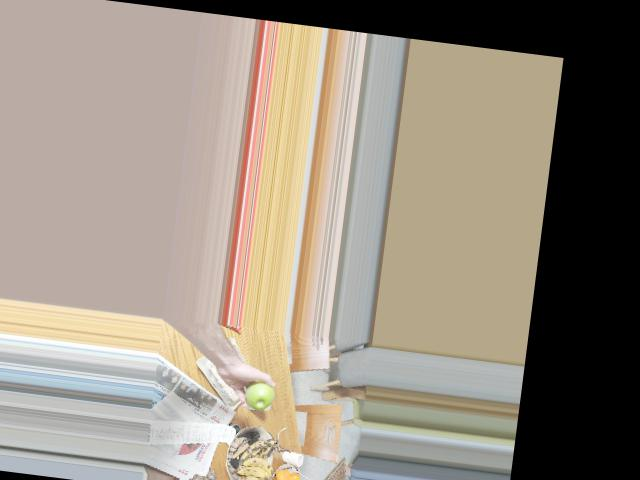apple: (240, 377, 278, 413)
